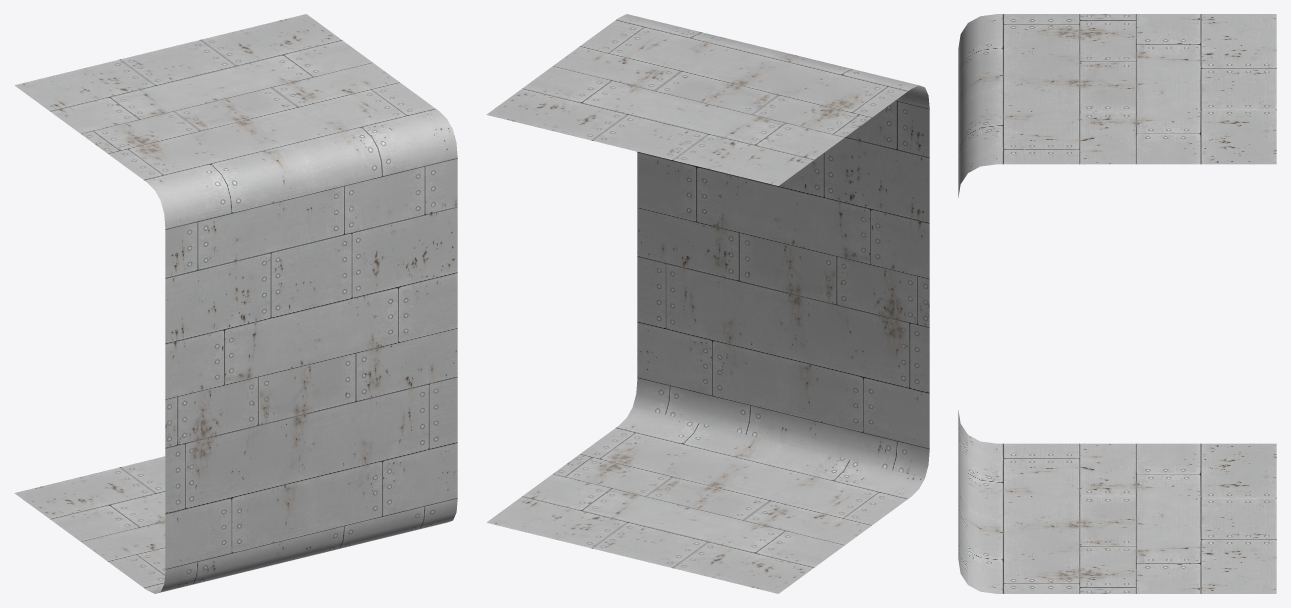
The model's file is StationHull.fbx.
3 views of the same model, side by side, from view 1: azimuth 30°, elevation 25°; view 2: azimuth 150°, elevation 25°; view 3: azimuth 270°, elevation 25° (orthographic). The views are drawn at different scales.
Parts seen in each view (by area): view 1: StationHull; view 2: StationHull; view 3: StationHull.
Part boxes in pixels (bbox=[...]): StationHull: bbox=[14, 14, 457, 593]; StationHull: bbox=[486, 14, 929, 593]; StationHull: bbox=[958, 14, 1276, 593].
Bounding box in the file's own units: 900 × 1200 × 807.
